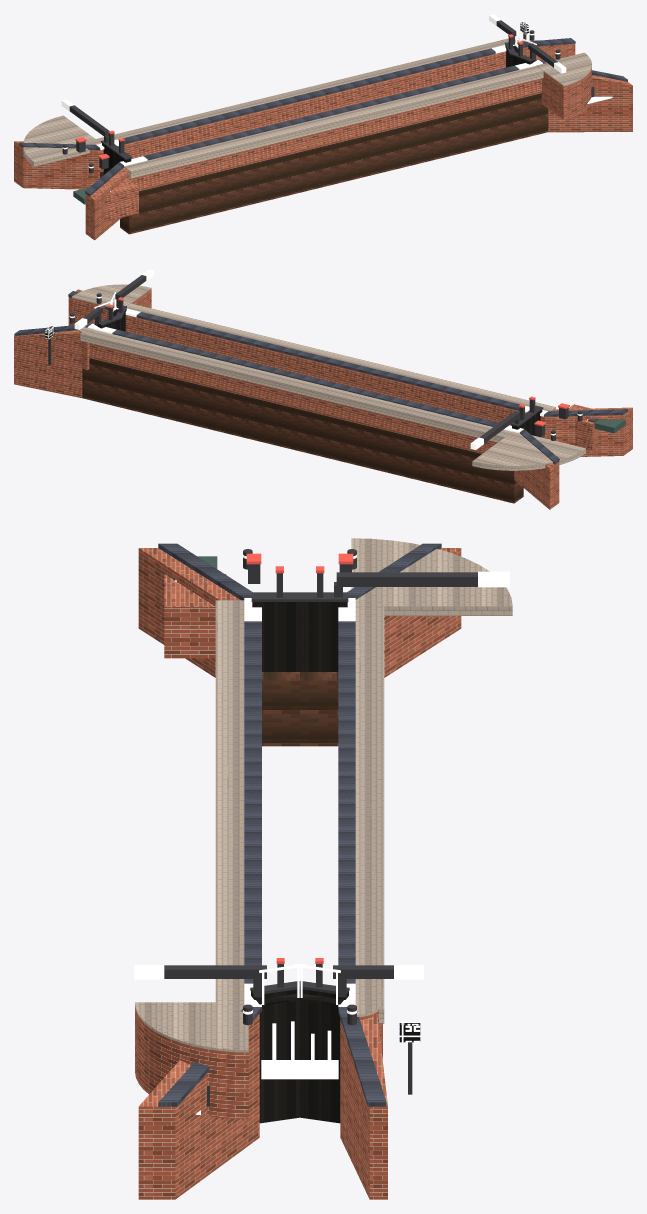
The model's file is lock-52.glb.
3 renders of one model, top to bottom at view 1: azimuth 30°, elevation 25°; view 2: azimuth 150°, elevation 25°; view 3: azimuth 270°, elevation 25°, orthographic. The views are drawn at different scales.
Parts seen in each view (by area): view 1: Chamber, ChamberWet, Edge, Coping.001, TopGateCap, Coping, TopGate; view 2: Chamber, ChamberWet, Edge, Coping.001, TopGateCap, Coping, TopGate; view 3: Edge, Chamber, Coping.001, TopGate, TopGateCap, ChamberWet, Coping, Leak.
Boxes of the visible parts, <box> form: Chamber: <box>14,40,632,240</box>; ChamberWet: <box>100,93,548,234</box>; Edge: <box>23,38,591,178</box>; Coping.001: <box>19,38,627,196</box>; TopGateCap: <box>62,20,594,173</box>; Coping: <box>61,14,566,168</box>; TopGate: <box>102,45,536,174</box>; Chamber: <box>14,289,632,509</box>; ChamberWet: <box>82,358,523,503</box>; Edge: <box>71,284,585,470</box>; Coping.001: <box>14,291,627,464</box>; TopGateCap: <box>48,275,582,443</box>; Coping: <box>69,269,582,450</box>; TopGate: <box>94,309,542,437</box>; Edge: <box>135,538,512,1052</box>; Chamber: <box>135,548,461,1199</box>; Coping.001: <box>158,543,441,1106</box>; TopGate: <box>251,602,348,1123</box>; TopGateCap: <box>164,549,477,1106</box>; ChamberWet: <box>262,672,338,746</box>; Coping: <box>134,554,509,1014</box>; Leak: <box>175,580,338,1114</box>.
Bounding box in the file's own units: 34.36 × 5.01 × 10.32.
11 materials, 8 textured.
